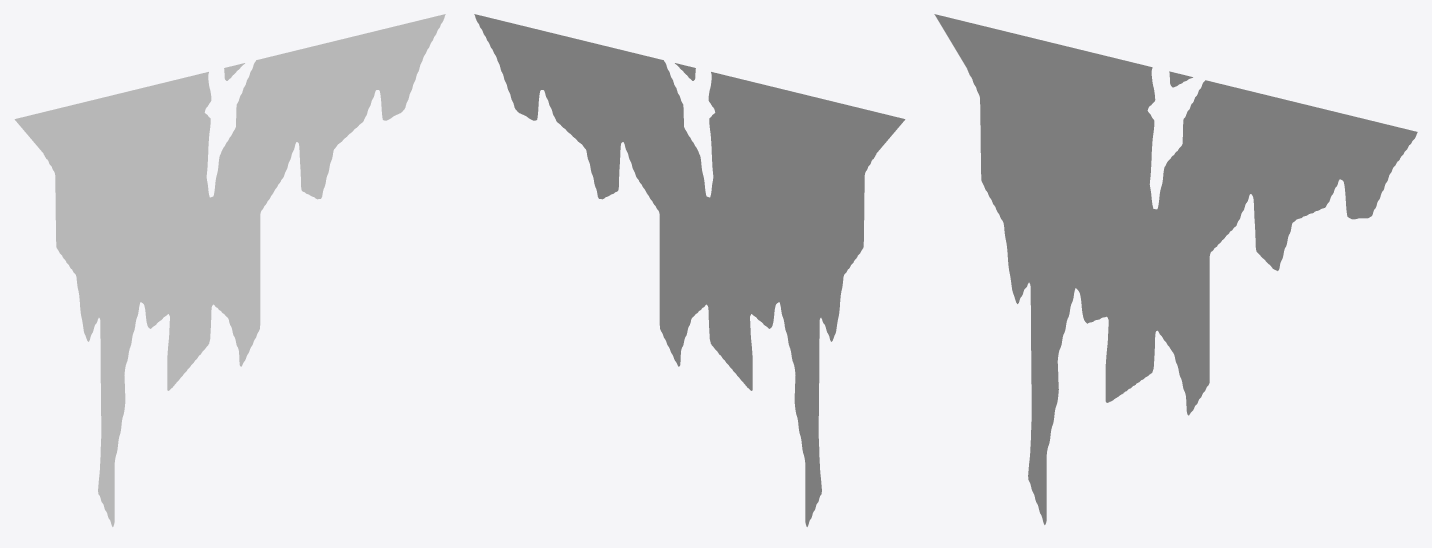
File: SM_Prop_Flag_Piece_02.fbx
3 renders of one model, left to right at view 1: azimuth 30°, elevation 25°; view 2: azimuth 150°, elevation 25°; view 3: azimuth 330°, elevation 25°, orthographic. The views are drawn at different scales.
Parts seen in each view (by area): view 1: SM_Prop_Flag_Piece_02; view 2: SM_Prop_Flag_Piece_02; view 3: SM_Prop_Flag_Piece_02.
Part boxes in pixels (left/top/right/bottom): SM_Prop_Flag_Piece_02: left=14, top=14, right=445, bottom=526; SM_Prop_Flag_Piece_02: left=474, top=14, right=905, bottom=526; SM_Prop_Flag_Piece_02: left=934, top=14, right=1417, bottom=524.
Bounding box in the file's own units: 97.13 × 94.55 × 0.
